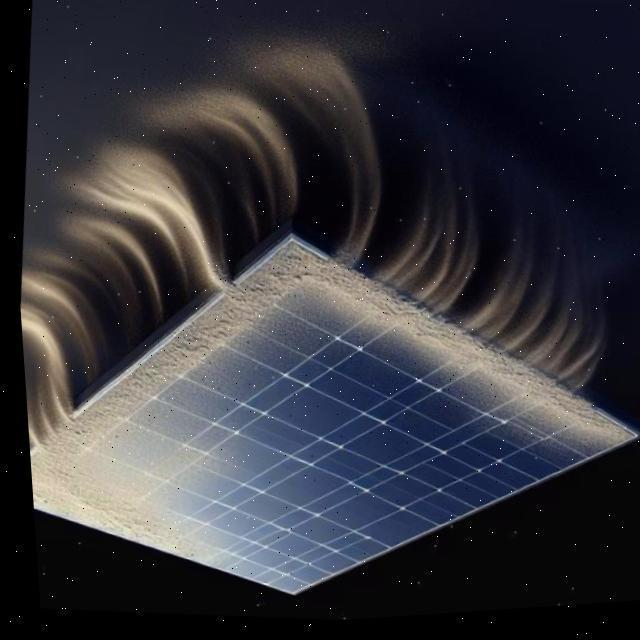Anomaly Solar Panel: (19, 149, 628, 619)
Surface Contaminant: (16, 172, 634, 609)
